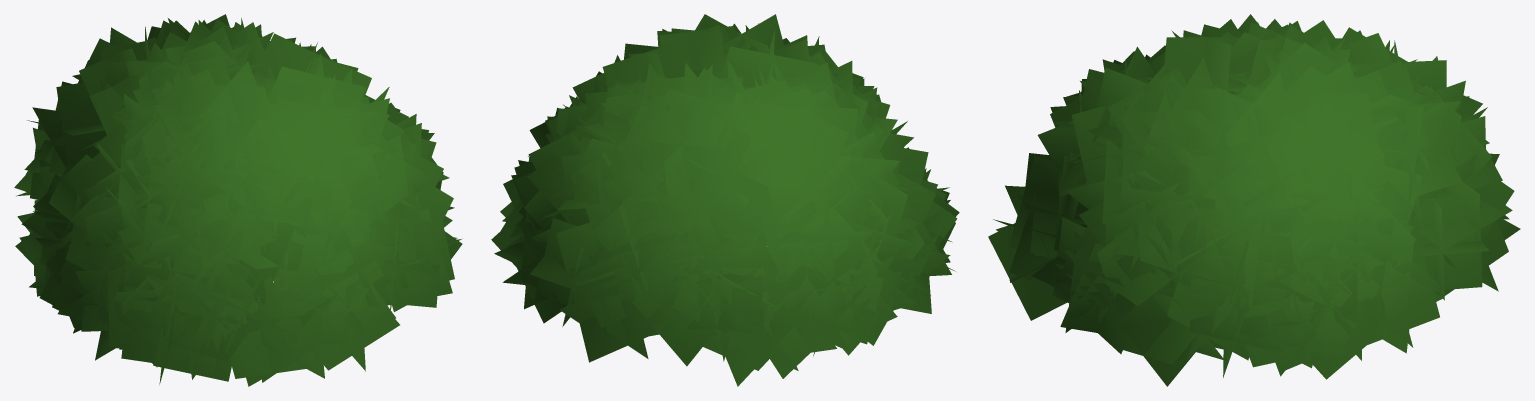
The model's file is Farmi_Pensas_LOD0.fbx.
3 renders of one model, left to right at view 1: azimuth 30°, elevation 25°; view 2: azimuth 150°, elevation 25°; view 3: azimuth 270°, elevation 25°, orthographic. The views are drawn at different scales.
Parts seen in each view (by area): view 1: Farmi_Pensas_LOD0; view 2: Farmi_Pensas_LOD0; view 3: Farmi_Pensas_LOD0.
Boxes of the visible parts, left/top/right/bottom form: Farmi_Pensas_LOD0: left=14, top=14, right=462, bottom=386; Farmi_Pensas_LOD0: left=491, top=14, right=959, bottom=386; Farmi_Pensas_LOD0: left=988, top=14, right=1520, bottom=386.
Bounding box in the file's own units: 197 × 130 × 222.
